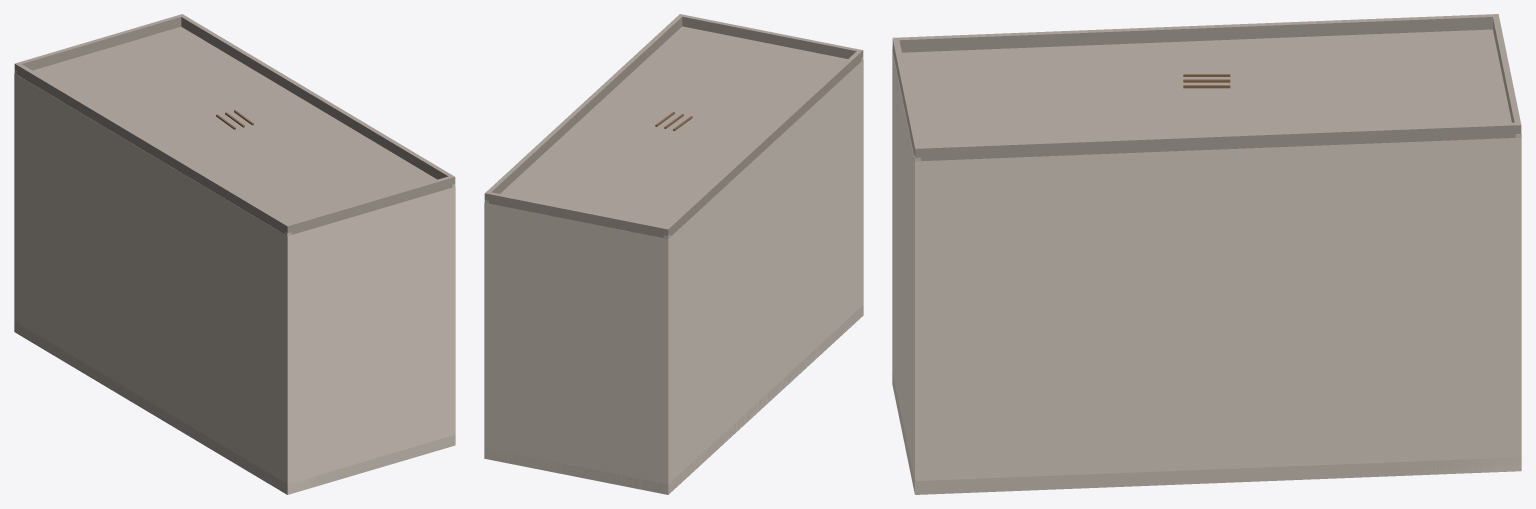
File: cop_misto_loja_terrea_05__way_586695362.fbx
3 renders of one model, left to right at view 1: azimuth 30°, elevation 25°; view 2: azimuth 150°, elevation 25°; view 3: azimuth 270°, elevation 25°, orthographic. The views are drawn at different scales.
Visible parts, largest first — view 1: cop_misto_loja_terrea_05__way_586695362_wall, cop_misto_loja_terrea_05__way_586695362_roof, cop_misto_loja_terrea_05__way_586695362_stone; view 2: cop_misto_loja_terrea_05__way_586695362_wall, cop_misto_loja_terrea_05__way_586695362_roof, cop_misto_loja_terrea_05__way_586695362_stone; view 3: cop_misto_loja_terrea_05__way_586695362_wall, cop_misto_loja_terrea_05__way_586695362_roof, cop_misto_loja_terrea_05__way_586695362_stone.
Boxes of the visible parts, x1=… form: cop_misto_loja_terrea_05__way_586695362_wall: x1=14, y1=73, x2=455, y2=494; cop_misto_loja_terrea_05__way_586695362_roof: x1=14, y1=14, x2=455, y2=234; cop_misto_loja_terrea_05__way_586695362_stone: x1=14, y1=71, x2=455, y2=494; cop_misto_loja_terrea_05__way_586695362_wall: x1=484, y1=60, x2=863, y2=494; cop_misto_loja_terrea_05__way_586695362_roof: x1=484, y1=14, x2=863, y2=238; cop_misto_loja_terrea_05__way_586695362_stone: x1=484, y1=57, x2=863, y2=494; cop_misto_loja_terrea_05__way_586695362_wall: x1=892, y1=52, x2=1521, y2=494; cop_misto_loja_terrea_05__way_586695362_roof: x1=892, y1=14, x2=1521, y2=161; cop_misto_loja_terrea_05__way_586695362_stone: x1=892, y1=47, x2=1521, y2=494.
Size of the model in its own units: 1565 by 1877 by 3081.
